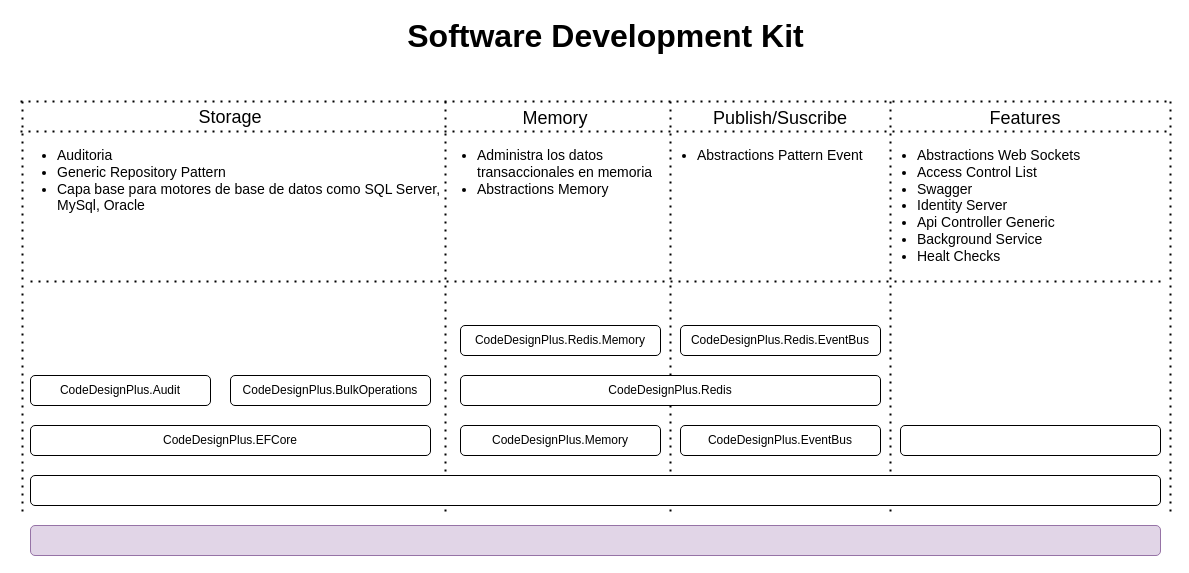
This 1189x573 diagram has some shape labels left out. The shapes that lost their labels are listed below. From the top down, each one's centre as x and y in pixels, then its label:
At pixel 1030 440: "CodeDesignPlus.Features".
At pixel 595 490: "CodeDesignPlus.Core".
At pixel 595 540: ".Net Core".
